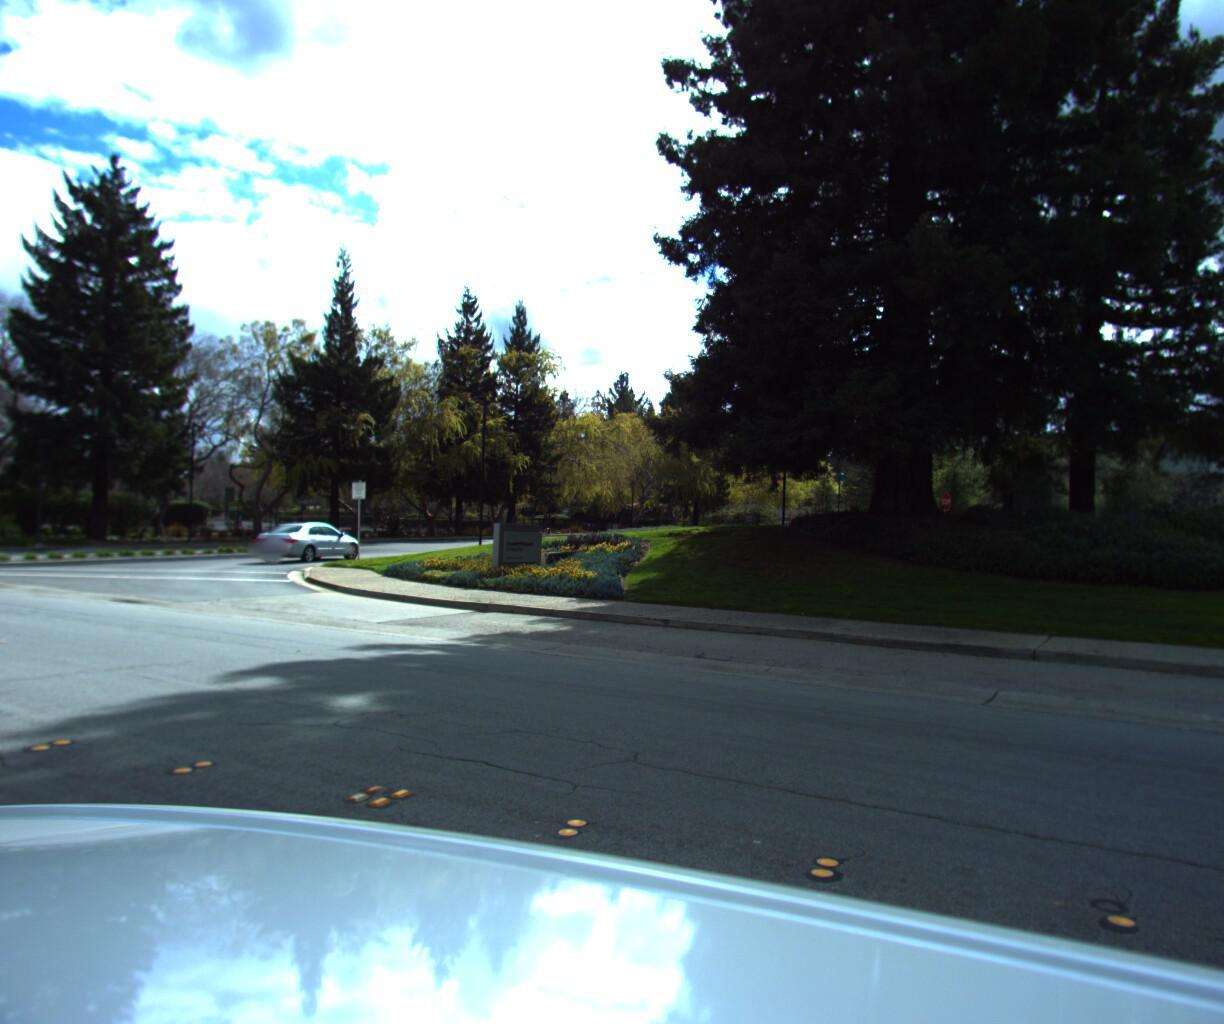car: (249, 525, 368, 571)
